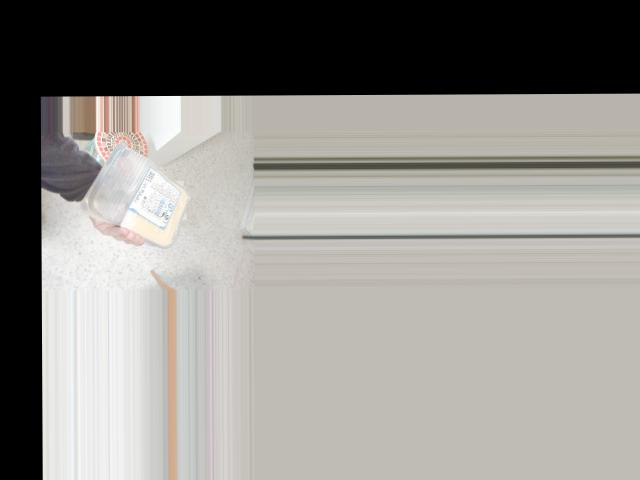cheese: (106, 137, 193, 241)
